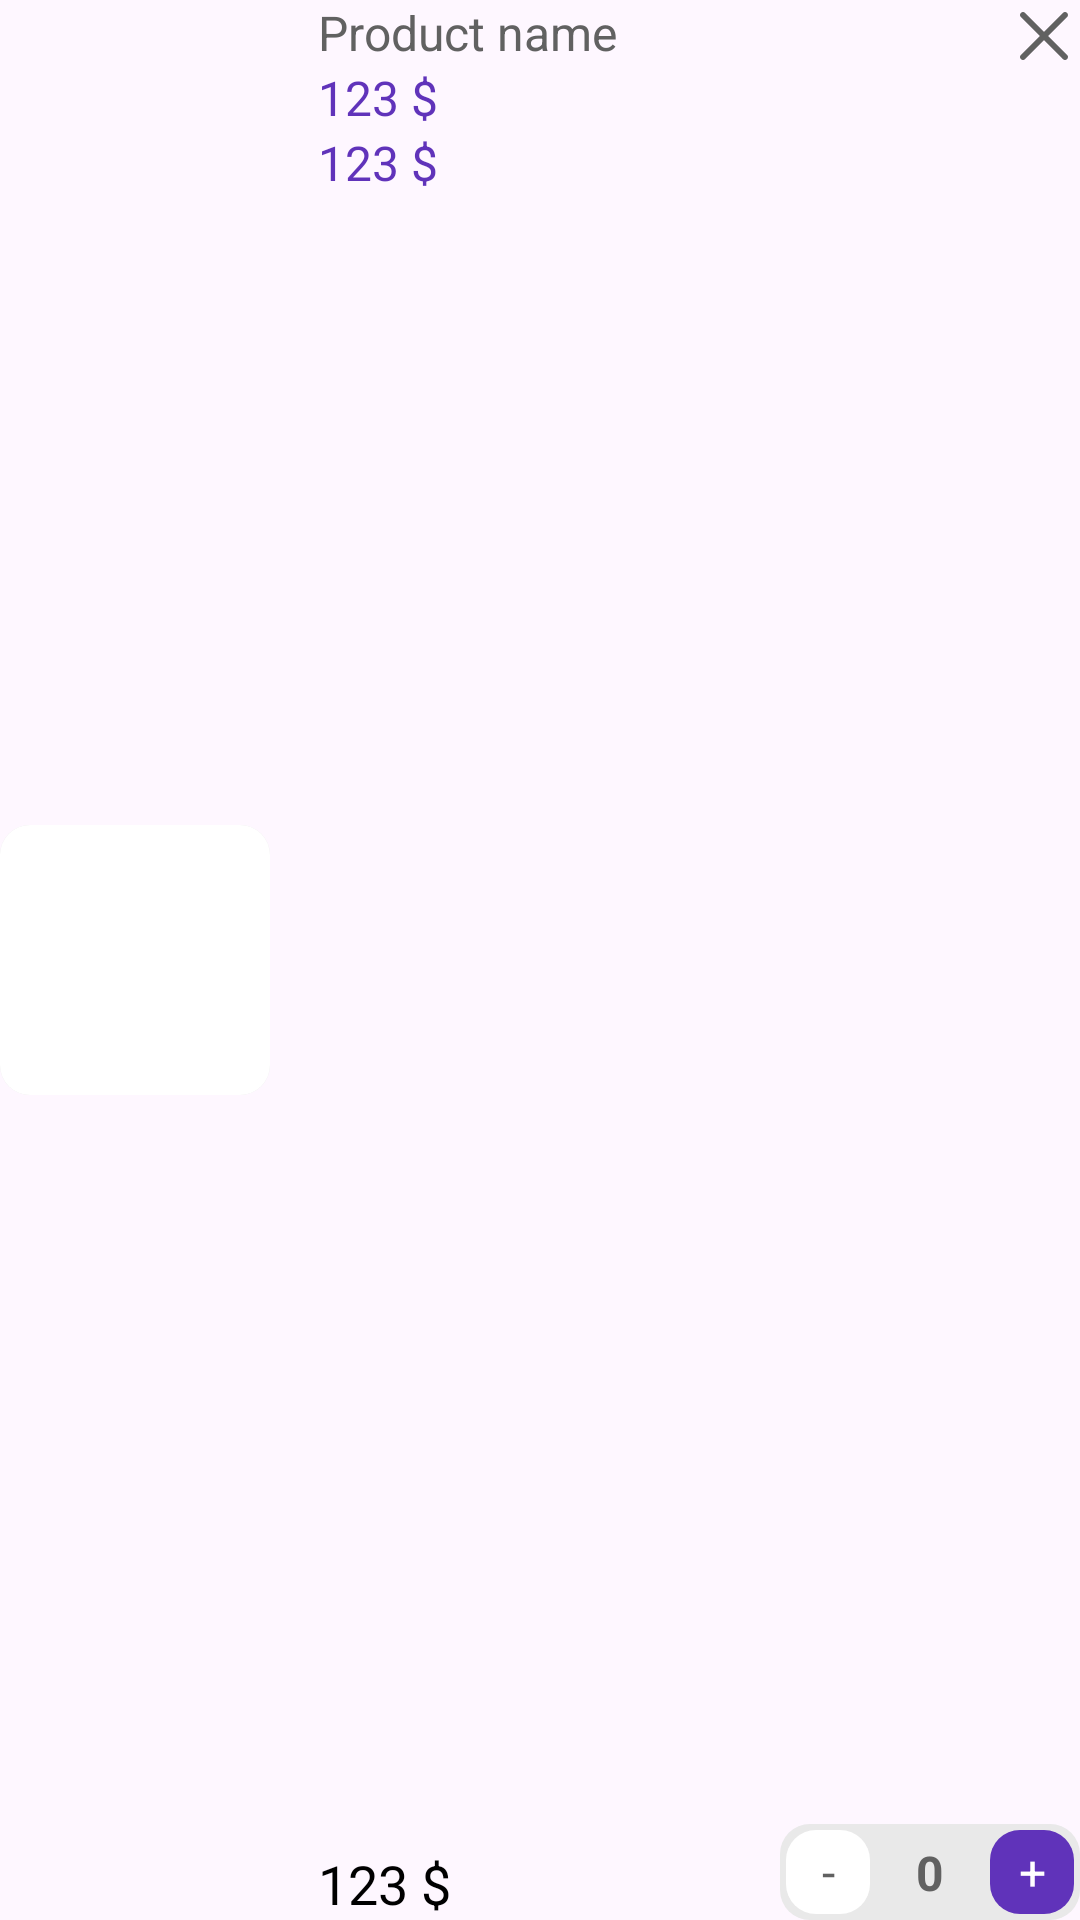

Where icons sit on this 1080 × 1920 app screen, as (x1, y1, x2, y2):
cross: (1020, 12, 1068, 60)
